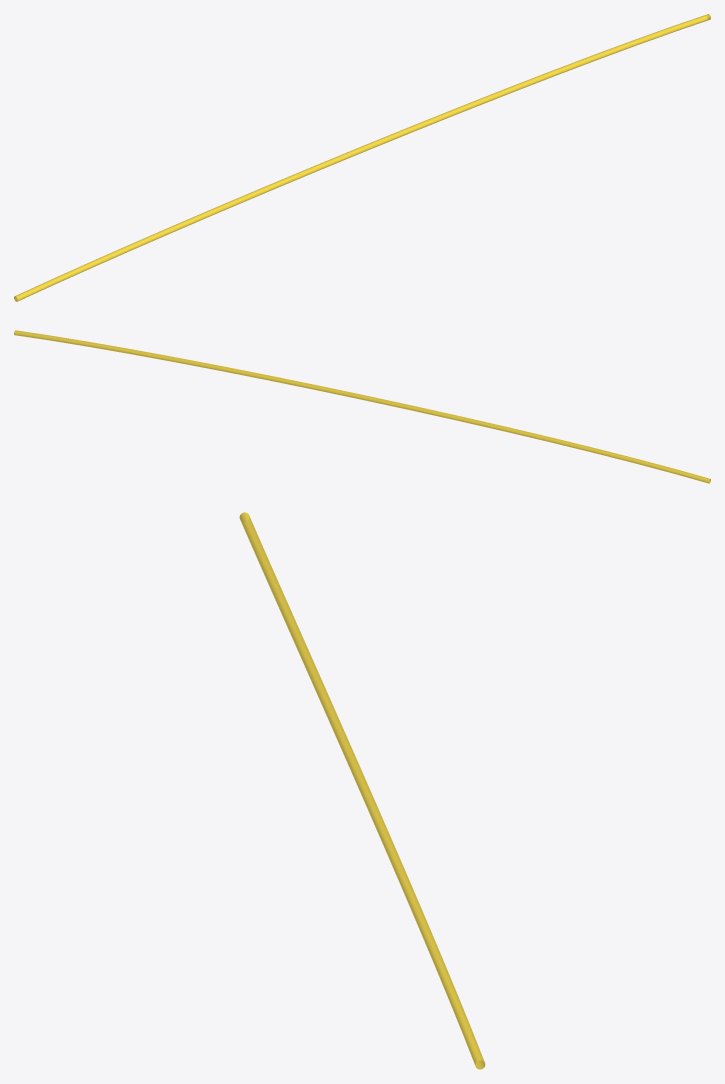
Rendered from Event_100608114_track_42.fbx.
3 views of the same model, one above another, from view 1: azimuth 30°, elevation 25°; view 2: azimuth 150°, elevation 25°; view 3: azimuth 270°, elevation 25° (orthographic). The views are drawn at different scales.
Visible parts, largest first — view 1: Model; view 2: Model; view 3: Model.
Boxes of the visible parts, <box> form: Model: <box>14,14,710,301</box>; Model: <box>14,330,710,483</box>; Model: <box>239,512,485,1069</box>.
Size of the model in its own units: 5.78 by 0.3591 by 0.9665.
